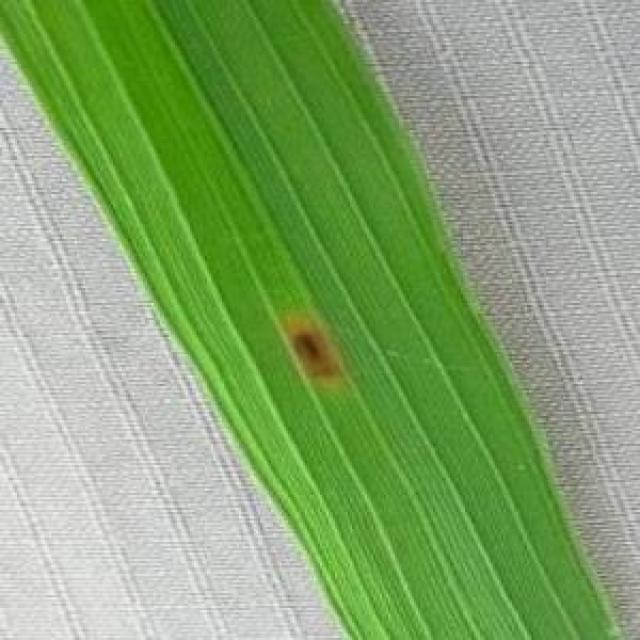Brown_Spot: (274, 315, 357, 392)
